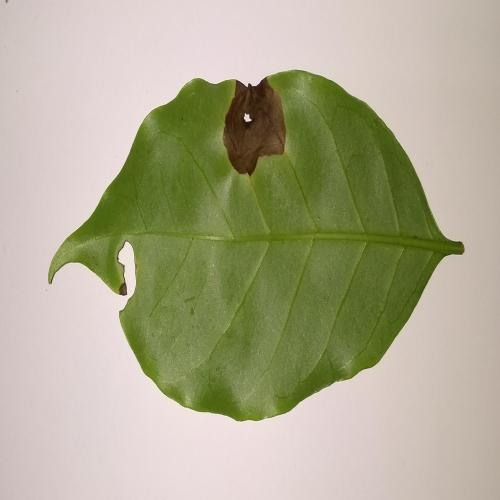leaf: (44, 56, 467, 429)
phoma: (215, 66, 300, 180)
